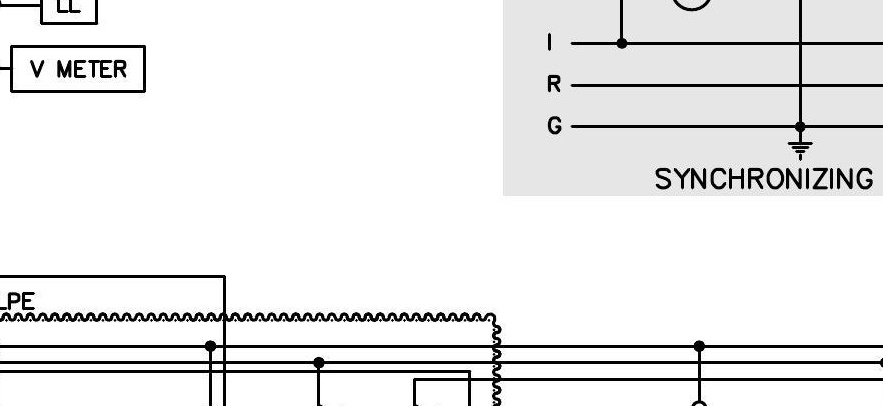v_m_digital: (9, 44, 147, 94)
